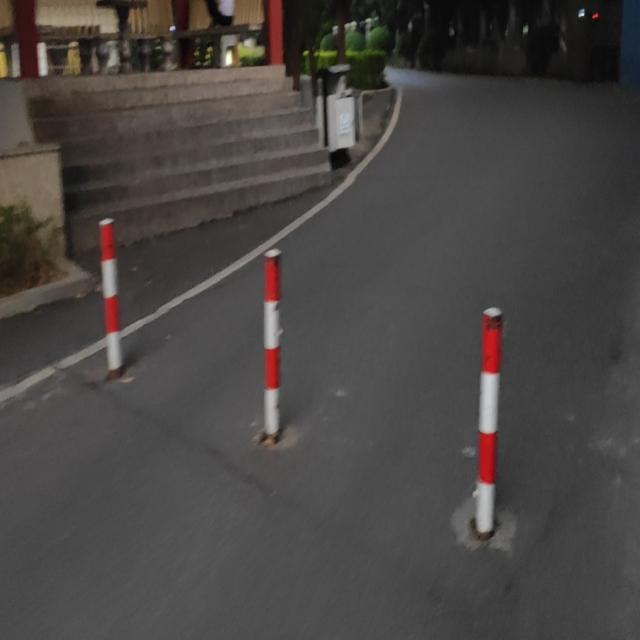ash bin: (315, 61, 358, 160)
warning_column: (474, 306, 505, 531), (259, 249, 282, 437), (98, 214, 124, 378)
